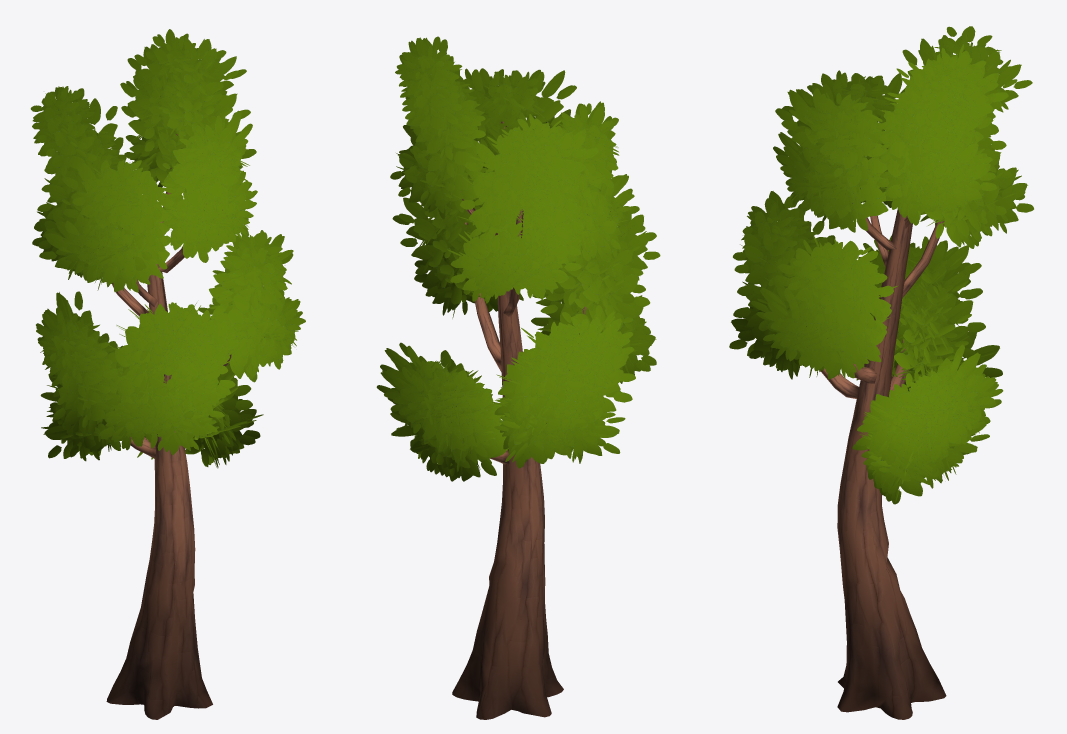
The model's file is CommonTree_3.glb.
3 views of the same model, side by side, from view 1: azimuth 30°, elevation 25°; view 2: azimuth 150°, elevation 25°; view 3: azimuth 270°, elevation 25° (orthographic). The views are drawn at different scales.
Parts seen in each view (by area): view 1: CommonTree_3; view 2: CommonTree_3; view 3: CommonTree_3.
Boxes of the visible parts, x1=… form: CommonTree_3: x1=30, y1=29, x2=305, y2=719; CommonTree_3: x1=376, y1=36, x2=660, y2=719; CommonTree_3: x1=729, y1=26, x2=1033, y2=719.
Bounding box in the file's own units: 4.06 × 9.43 × 4.24.
2 materials, 2 textured.
